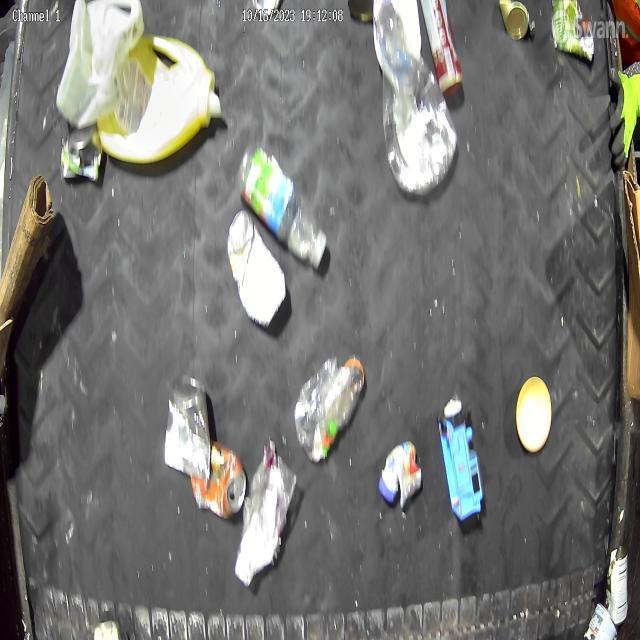can: (226, 208, 288, 329), (164, 374, 212, 481), (190, 439, 248, 521), (66, 124, 103, 184), (606, 543, 630, 626), (583, 600, 617, 640), (498, 0, 531, 40)
milk_jug: (56, 0, 145, 129)
non_white_jug: (97, 32, 220, 166)
plastic_bottle: (372, 0, 458, 194), (233, 138, 329, 274), (293, 352, 367, 464)
